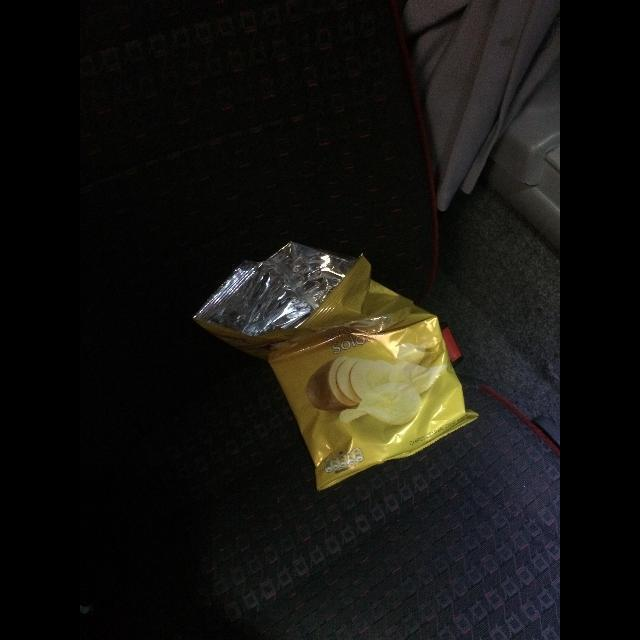Plastic: (192, 240, 478, 492)
